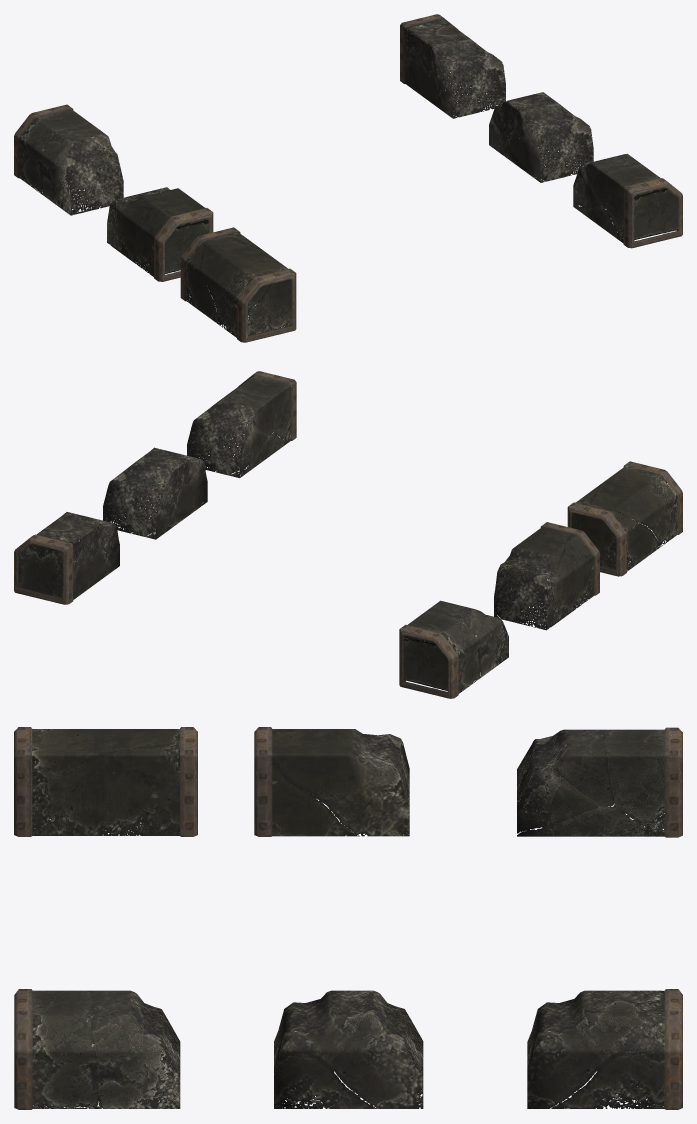
3 renders of one model, top to bottom at view 1: azimuth 30°, elevation 25°; view 2: azimuth 150°, elevation 25°; view 3: azimuth 270°, elevation 25°, orthographic. The views are drawn at different scales.
Visible parts, largest first — view 1: SM_Dowdun_Walkway_Battlements_8x8_05_LOD0; view 2: SM_Dowdun_Walkway_Battlements_8x8_05_LOD0; view 3: SM_Dowdun_Walkway_Battlements_8x8_05_LOD0.
Boxes of the visible parts, box(x1,y1,x2,y2) form: SM_Dowdun_Walkway_Battlements_8x8_05_LOD0: box(14, 14, 682, 342); SM_Dowdun_Walkway_Battlements_8x8_05_LOD0: box(14, 371, 682, 698); SM_Dowdun_Walkway_Battlements_8x8_05_LOD0: box(14, 727, 682, 1109).
Size of the model in its own units: 8.02 by 1 by 7.27.
2 materials, 2 textured.
